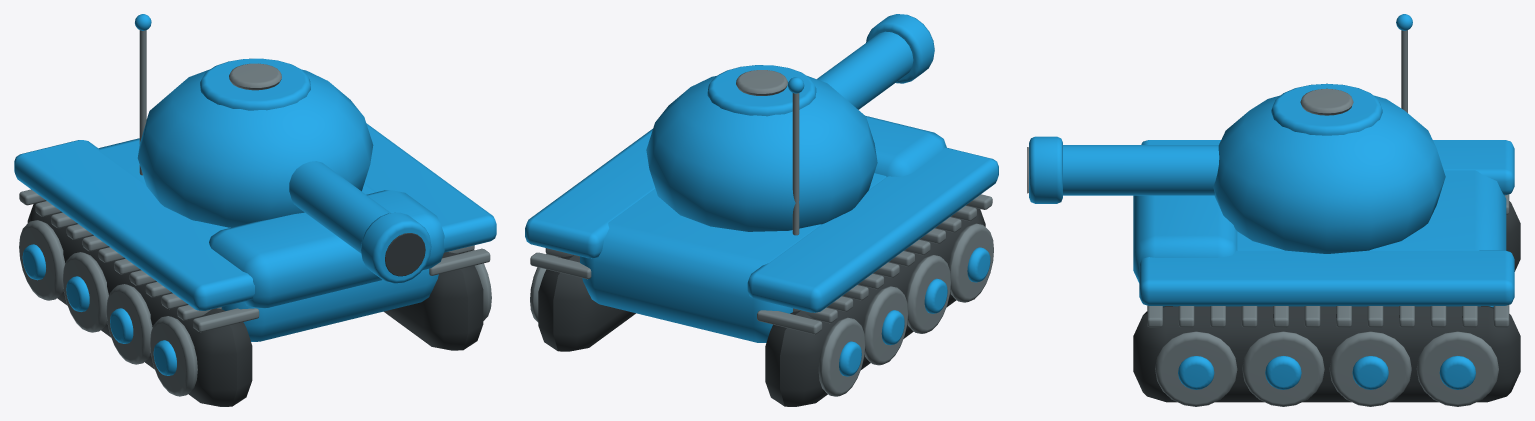
Rendered from COM-TANK-01.glb.
The picture shows the model from 3 angles, left to right: view 1: azimuth 30°, elevation 25°; view 2: azimuth 150°, elevation 25°; view 3: azimuth 270°, elevation 25°; orthographic projection.
Parts seen in each view (by area): view 1: cast turret, fender.001, front glacis, hull, track-belt.001, fender, track-belt, barrel tube, hatch, muzzle rim, road wheel.007, road wheel.005 (+12 smaller); view 2: cast turret, hull, fender.001, fender, track-belt.001, track-belt, barrel tube, hatch, front glacis, road wheel.004, road wheel.007, road wheel.005 (+11 smaller); view 3: cast turret, fender, track-belt, barrel tube, hull, front glacis, road wheel.001, road wheel, road wheel.002, road wheel.003, hatch, fender.001 (+8 smaller).
Boxes of the visible parts, box(x1,y1,x2,y2) form: cast turret: box(137, 69, 373, 227); fender.001: box(14, 140, 254, 310); front glacis: box(209, 190, 444, 308); hull: box(98, 138, 438, 341); track-belt.001: box(27, 200, 252, 406); fender: box(364, 123, 496, 252); track-belt: box(384, 252, 483, 350); barrel tube: box(289, 161, 390, 253); hatch: box(200, 58, 310, 110); muzzle rim: box(360, 212, 431, 283); road wheel.007: box(150, 316, 197, 396); road wheel.005: box(62, 252, 108, 332); cast turret: box(646, 76, 877, 231); hull: box(580, 173, 886, 342); fender.001: box(747, 147, 998, 312); fender: box(525, 129, 655, 258); track-belt.001: box(765, 205, 985, 406); track-belt: box(538, 255, 635, 351); barrel tube: box(817, 31, 913, 109); hatch: box(707, 65, 816, 116); front glacis: box(866, 116, 946, 176); road wheel.004: box(818, 317, 865, 396); road wheel.007: box(948, 223, 993, 302); road wheel.005: box(863, 286, 908, 365); cast turret: box(1213, 95, 1445, 253); fender: box(1139, 250, 1514, 305); track-belt: box(1133, 306, 1520, 402); barrel tube: box(1063, 145, 1219, 195); hull: box(1163, 170, 1506, 307); front glacis: box(1133, 195, 1237, 282); road wheel.001: box(1329, 331, 1411, 406); road wheel: box(1416, 331, 1498, 406); road wheel.002: box(1242, 331, 1324, 406); road wheel.003: box(1155, 331, 1237, 406); hatch: box(1271, 83, 1382, 135); fender.001: box(1141, 140, 1514, 195).
Bounding box in the file's own units: 1.53 × 1.34 × 2.04.
